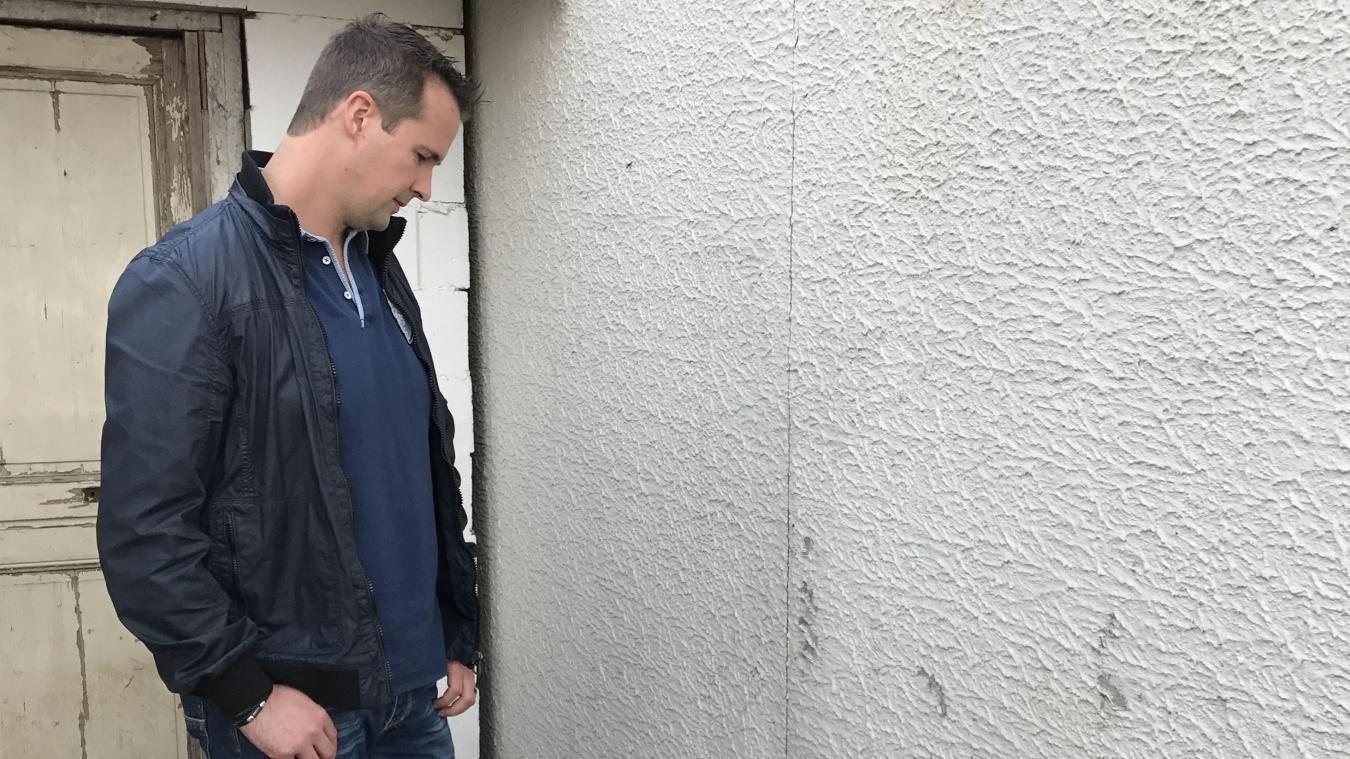crack: (784, 0, 798, 759)
